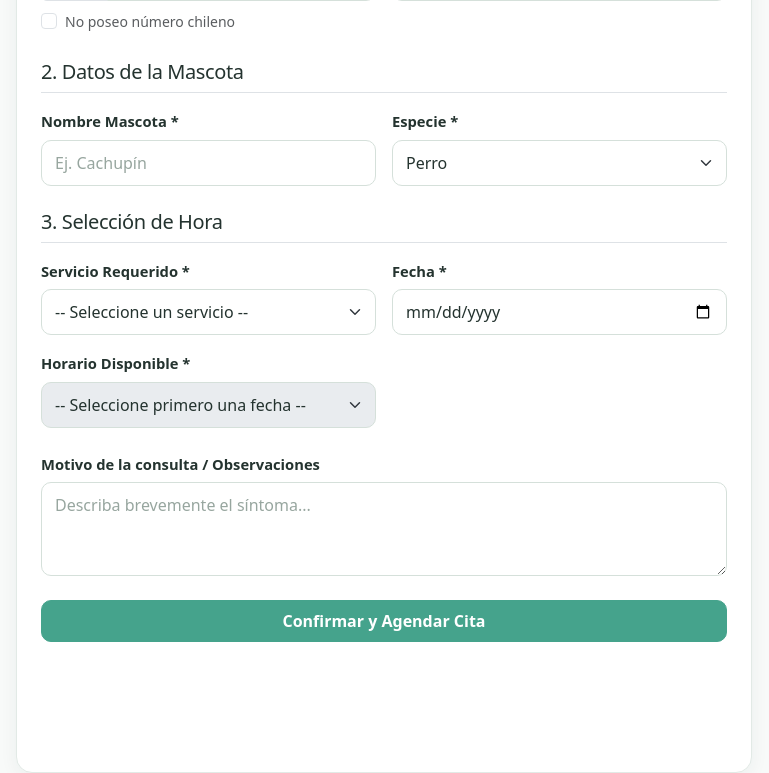
Scenario: AgendarPage › muestra errores al enviar el formulario vacío
(page scrolled)
Click the button "Confirmar y Agendar Cita" at (384, 622), box left=41, top=600, right=727, bottom=642
(page scrolled)
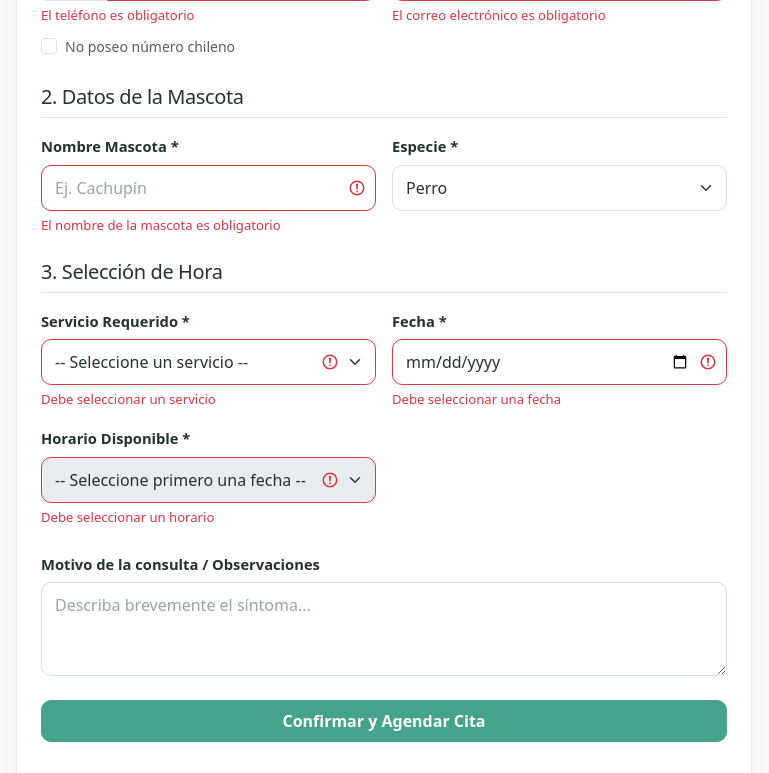
Expected: the text "El correo electrónico es obligatorio" is shown, left=392, top=6, right=606, bottom=24
Expected: the text "Debe seleccionar un servicio" is shown, left=41, top=390, right=216, bottom=408
